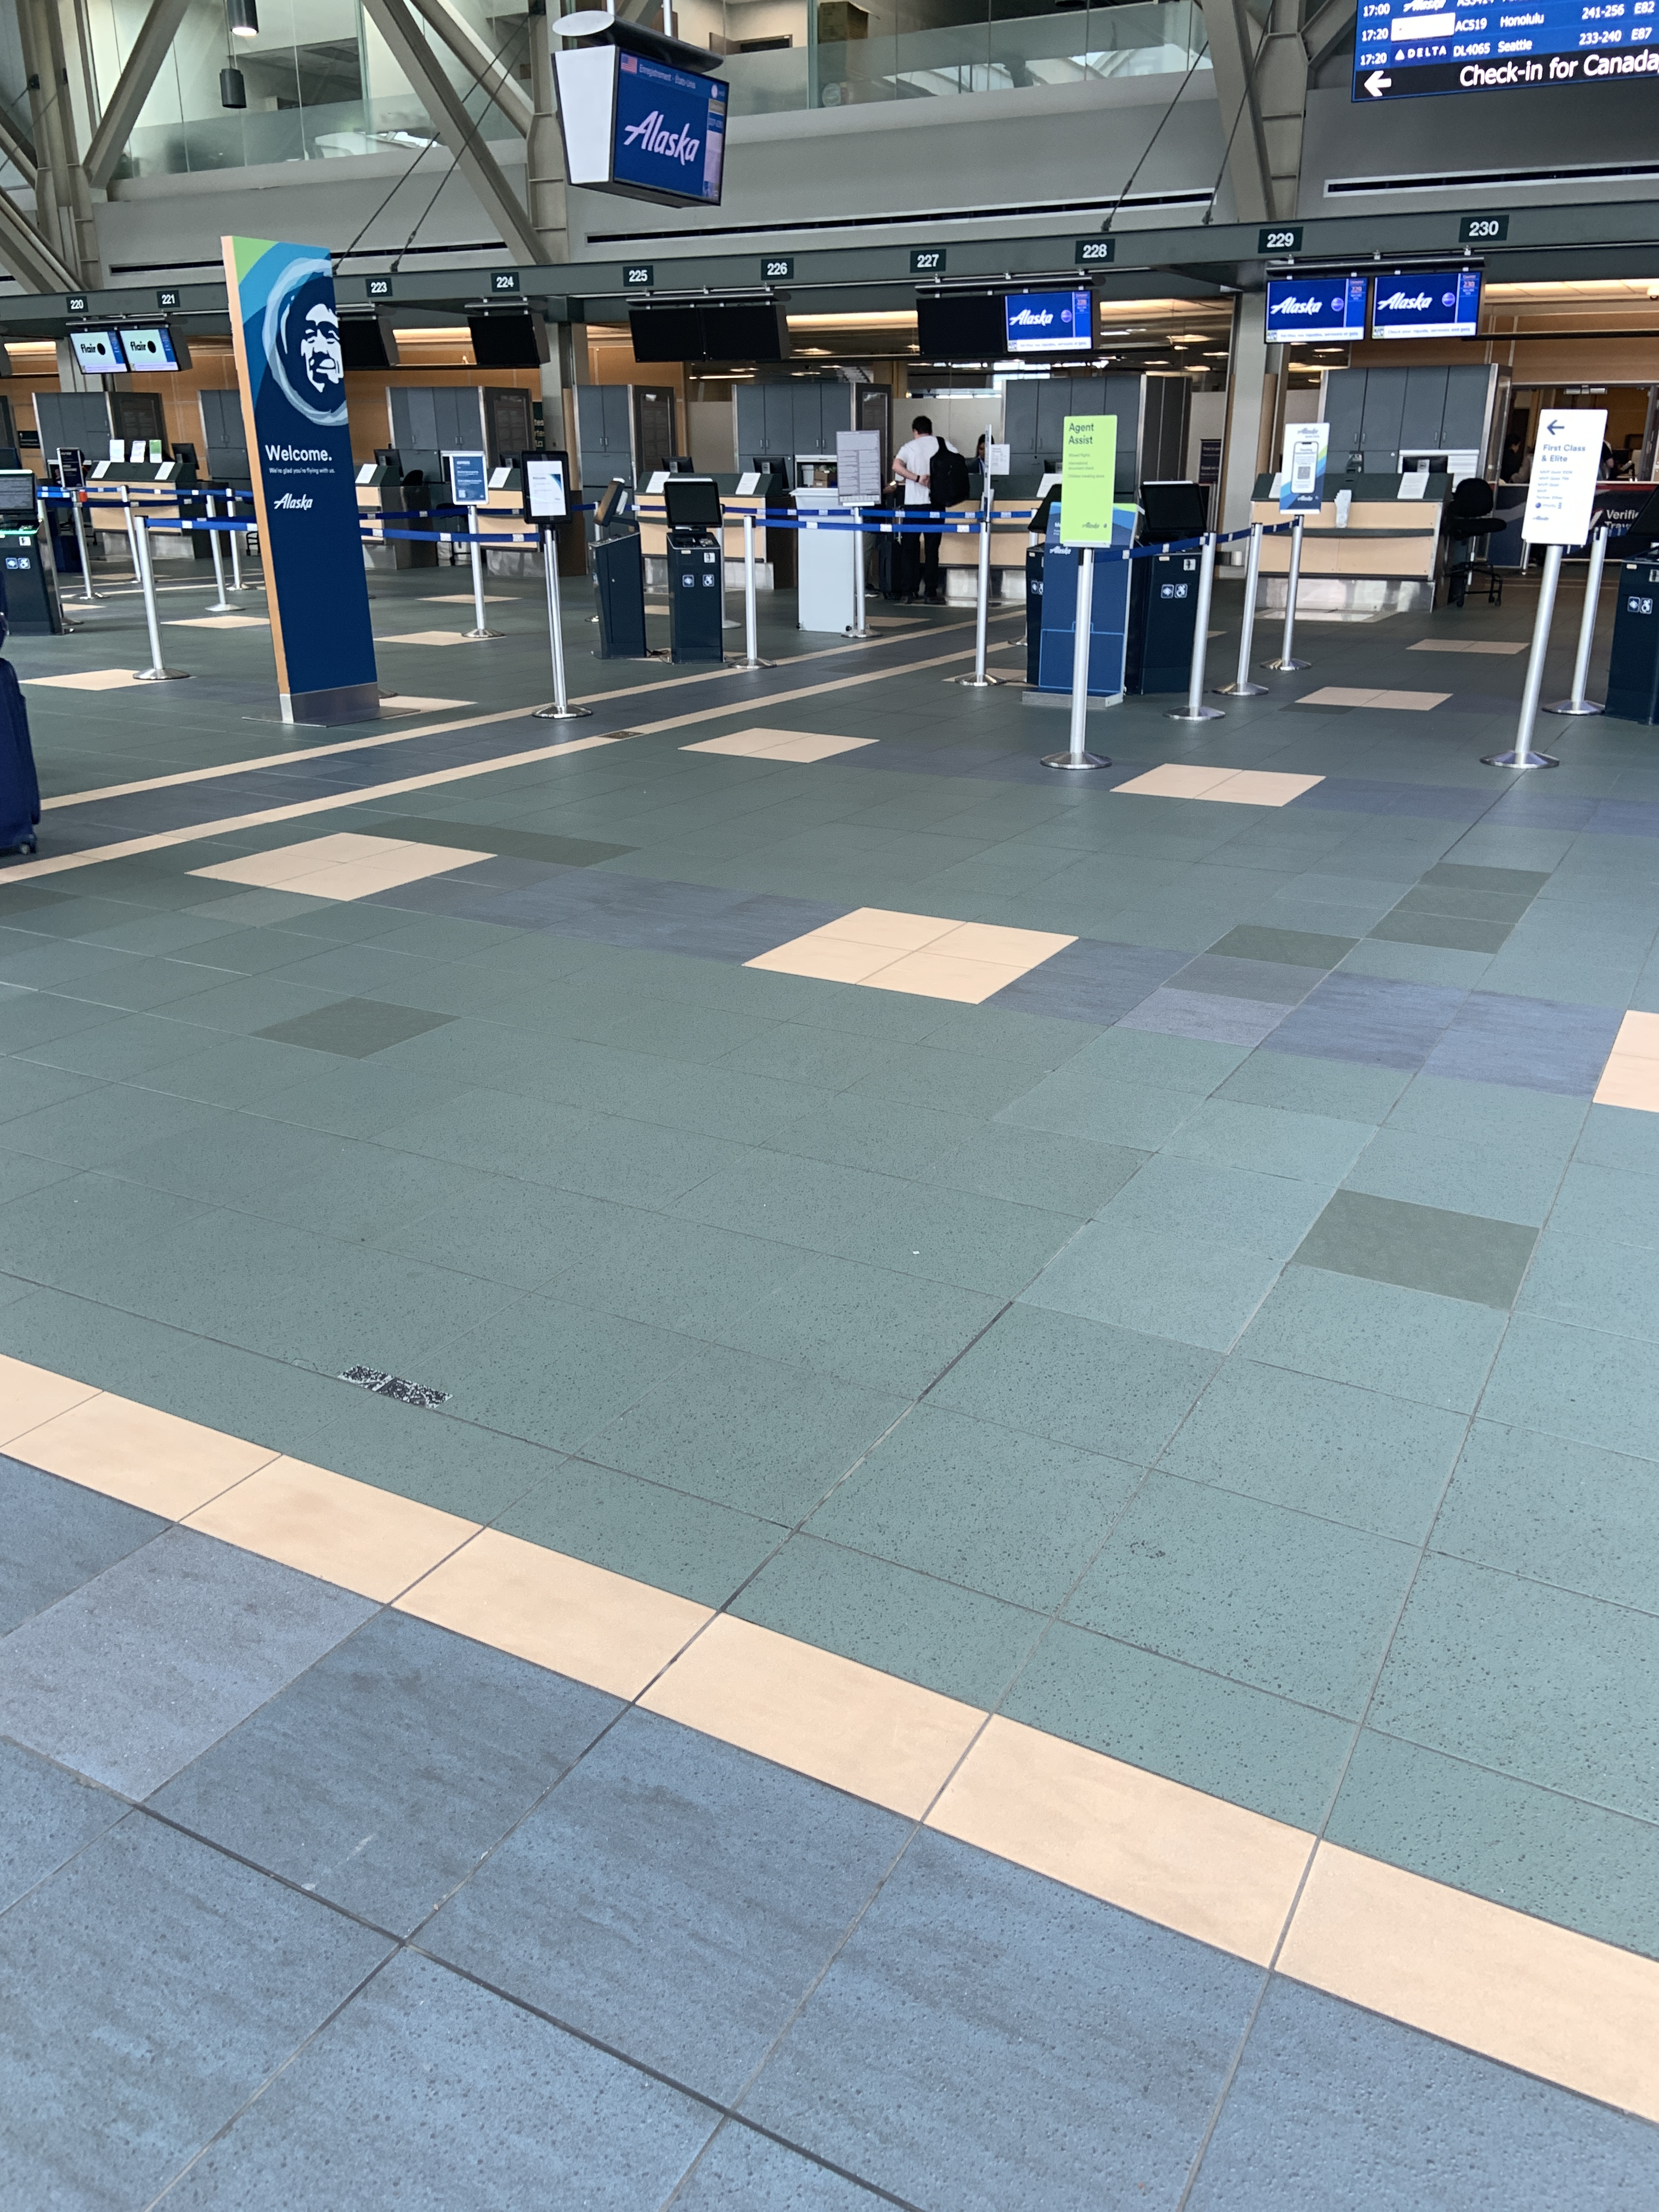Defect: (336, 1353, 469, 1420)
